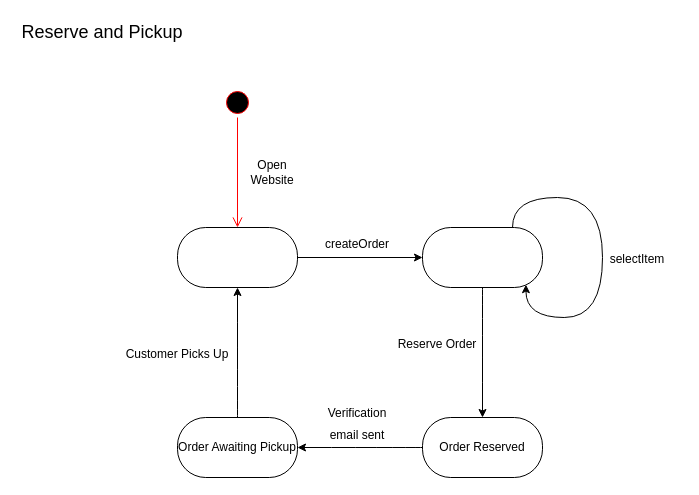
The diagram is 699 pixels wide and 495 high, and some of its shapes have lost their labels. Each missing label, with the box of its shape:
Order Updating: (422, 226, 542, 288)
Waiting for Order Creation: (176, 226, 298, 288)
